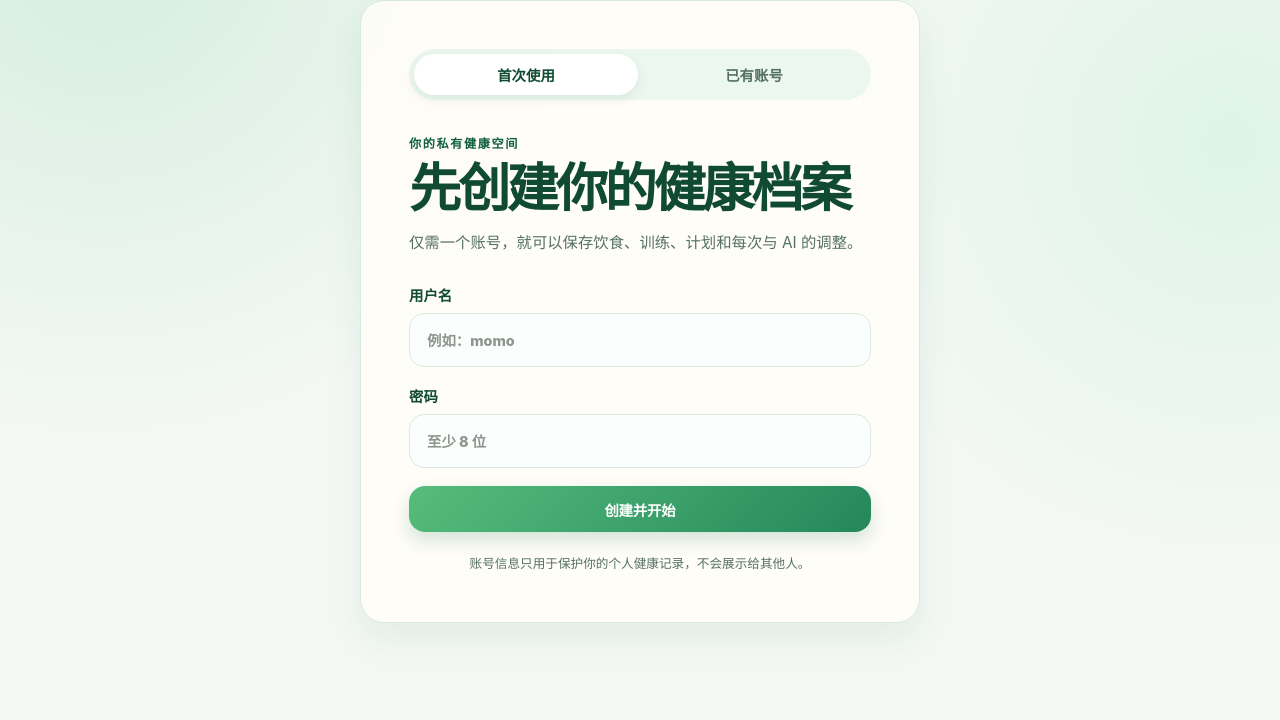
Scenario: OnboardingForm › switches to login when the single account already exists
The width and height of the screenshot is (1280, 720).
Type "owner" into the field with id "auth-username" at (640, 340), box [409, 313, 871, 367]
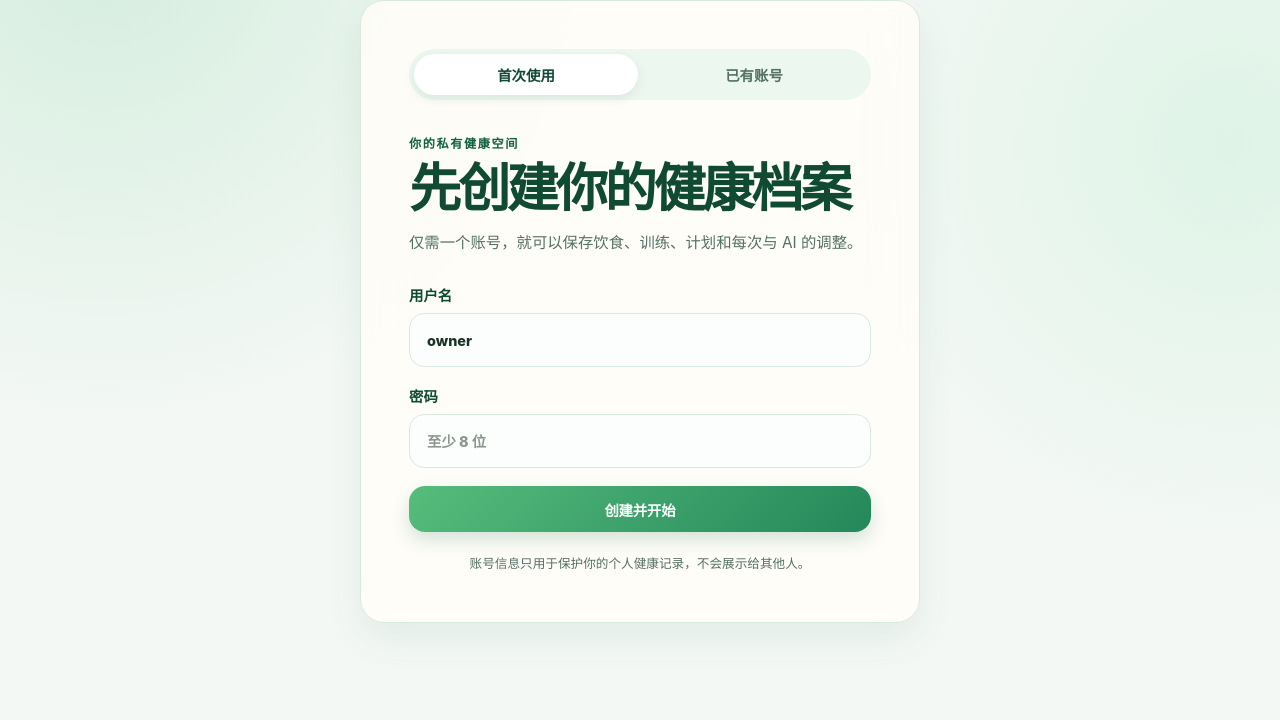
Type "password-123" into the password field with id "auth-password" at (640, 441), box [409, 414, 871, 468]
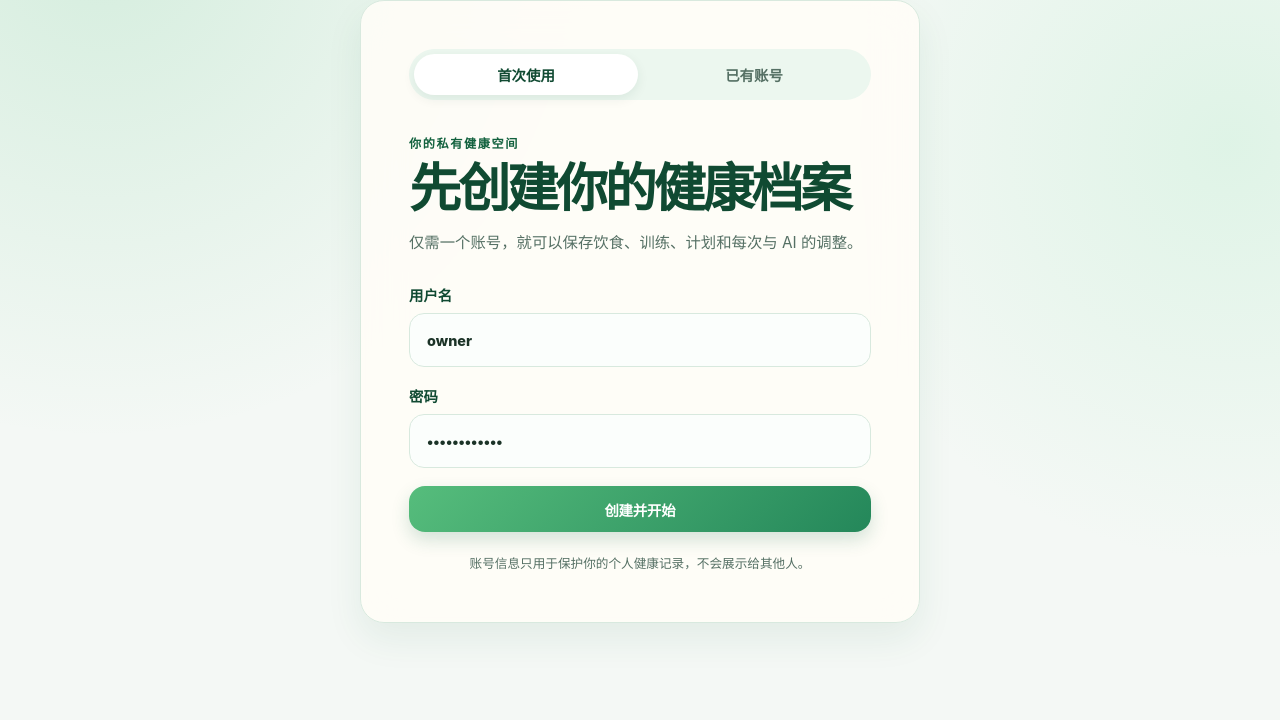
Click the submit button at (640, 509), box [409, 486, 871, 532]
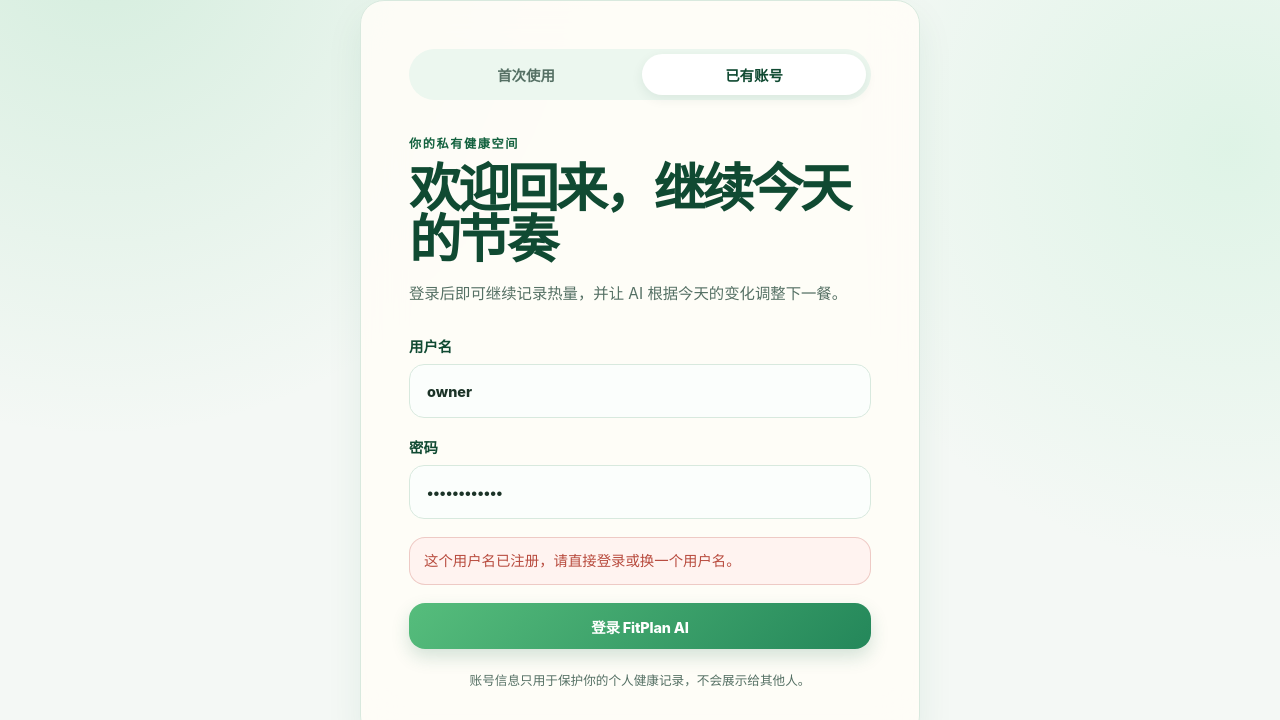
Check: the message "这个用户名已注册，请直接登录或换一个用户名。" is shown, box [409, 537, 871, 585]
Check: the submit button shows "FitPlan AI", box [409, 603, 871, 649]
